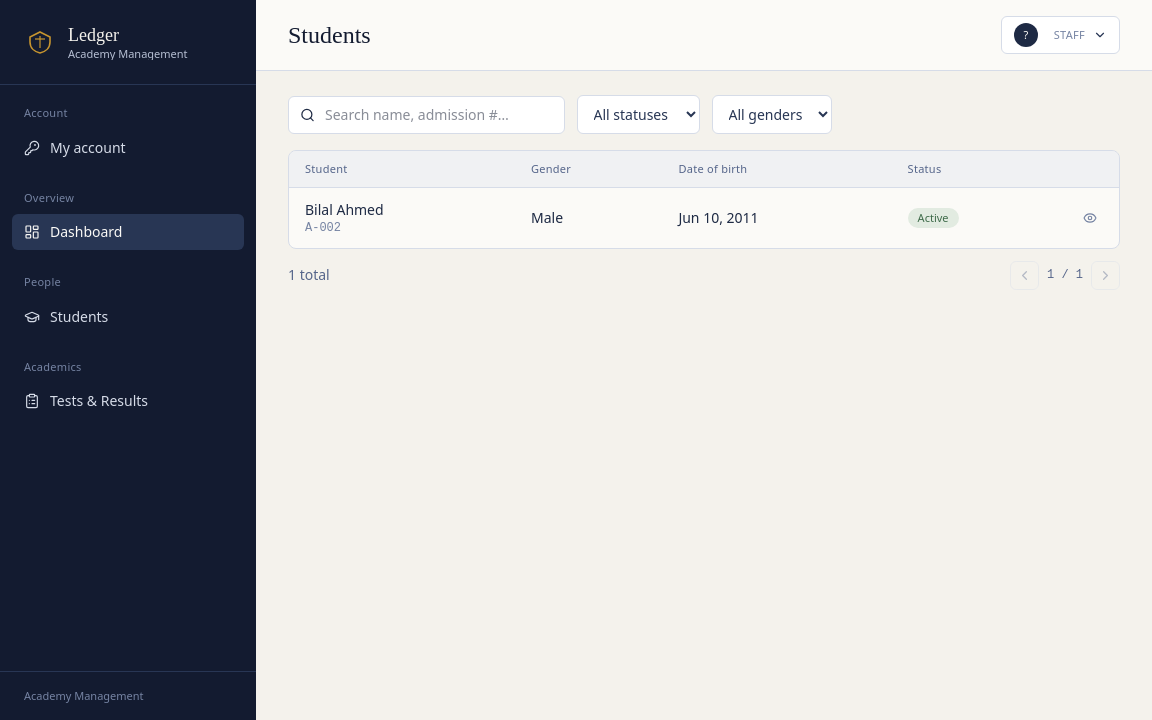
Students list — teacher (non-admin) › still shows fee data as absent (—) rather than throwing when viewing a student with no fee details
Expected: the text "Bilal Ahmed" is shown, [305, 200, 384, 219]
Click the button named "View" at (1090, 218), box [1077, 205, 1103, 231]
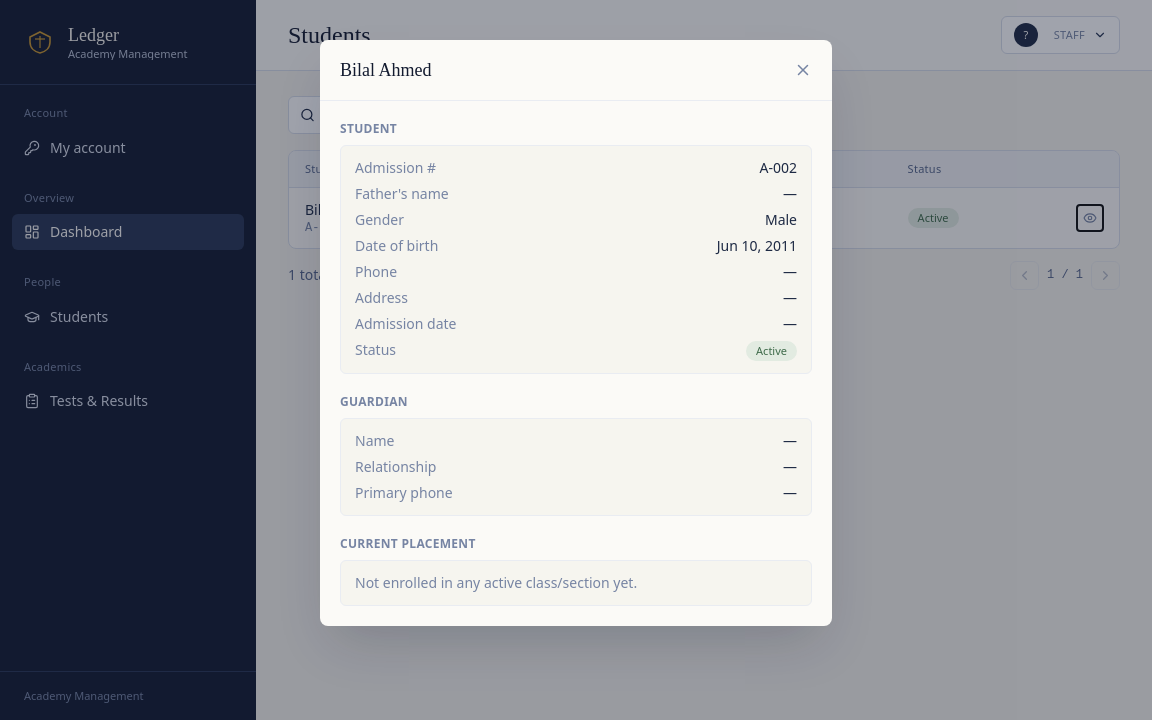
Now the text "Not enrolled in any active class/section yet." is shown, box [355, 573, 637, 592]
